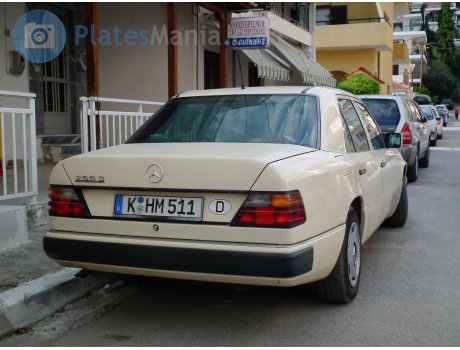License Plates: (122, 195, 198, 212)
